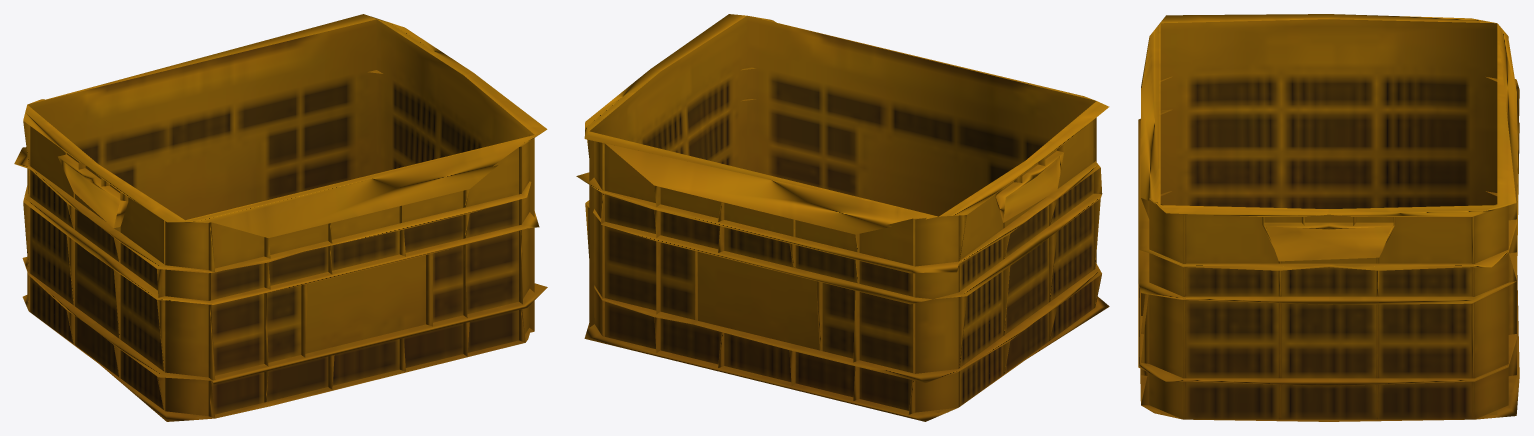
File: plasticcrate.glb
3 renders of one model, left to right at view 1: azimuth 30°, elevation 25°; view 2: azimuth 150°, elevation 25°; view 3: azimuth 270°, elevation 25°, orthographic. The views are drawn at different scales.
Parts seen in each view (by area): view 1: plastic_crate_02; view 2: plastic_crate_02; view 3: plastic_crate_02.
Boxes of the visible parts, x1,y1,x2,y2 form: plastic_crate_02: (14,14,547,421); plastic_crate_02: (576,14,1109,421); plastic_crate_02: (1138,14,1519,421).
Bounding box in the file's own units: 0.5055 × 0.2504 × 0.4055.
Materials: 1 (1 with a texture image).
